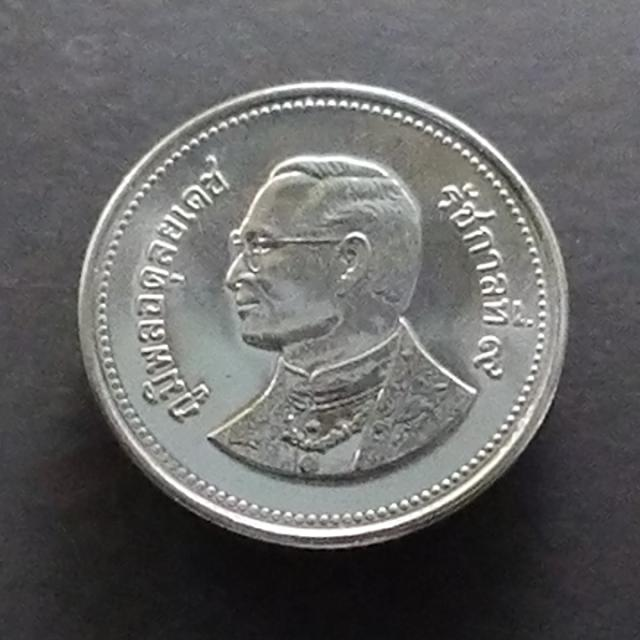2 Bath: (76, 80, 577, 558)
